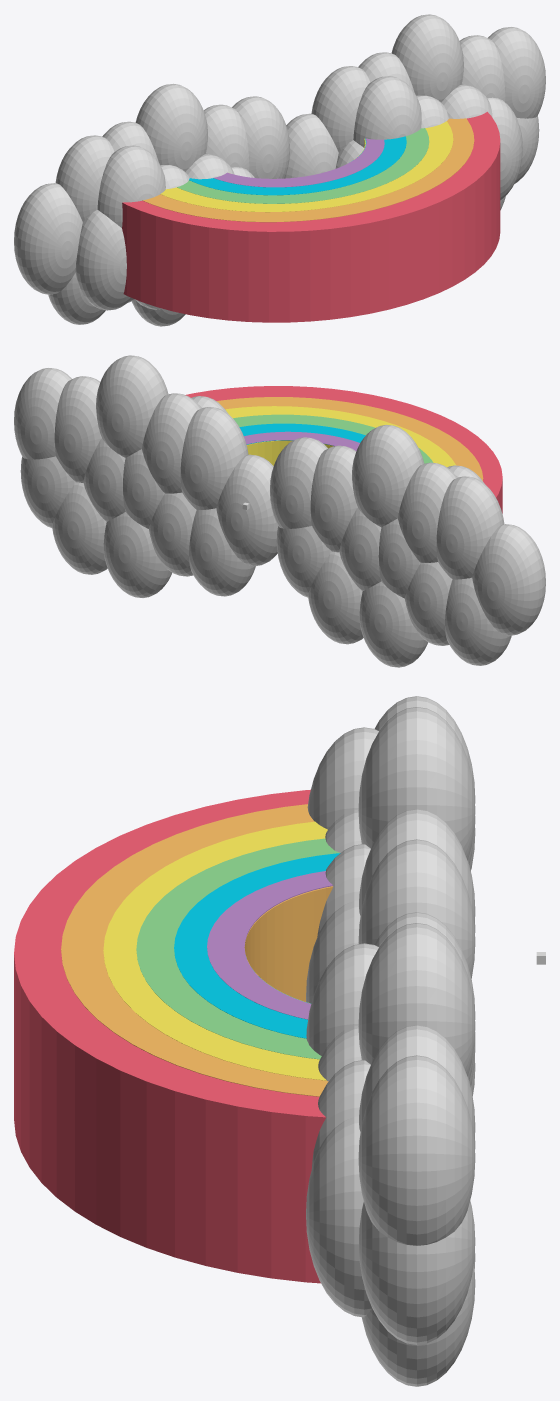
Rendered from rainbow.fbx.
3 views of the same model, one above another, from view 1: azimuth 30°, elevation 25°; view 2: azimuth 150°, elevation 25°; view 3: azimuth 270°, elevation 25° (orthographic). The views are drawn at different scales.
Visible parts, largest first — view 1: obj_0; view 2: obj_0; view 3: obj_0.
Part boxes in pixels (<box>): obj_0: <box>14,14,545,326</box>; obj_0: <box>14,355,545,667</box>; obj_0: <box>14,696,475,1386</box>.
Bounding box in the file's own units: 23600 × 10500 × 11300.
